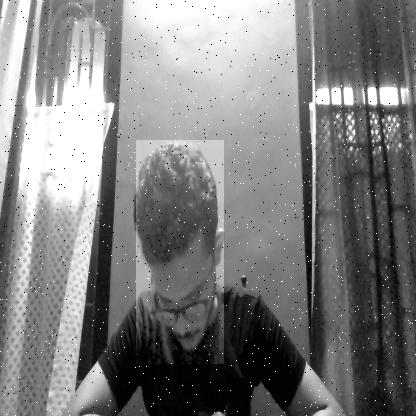Distracted: (136, 140, 224, 364)
